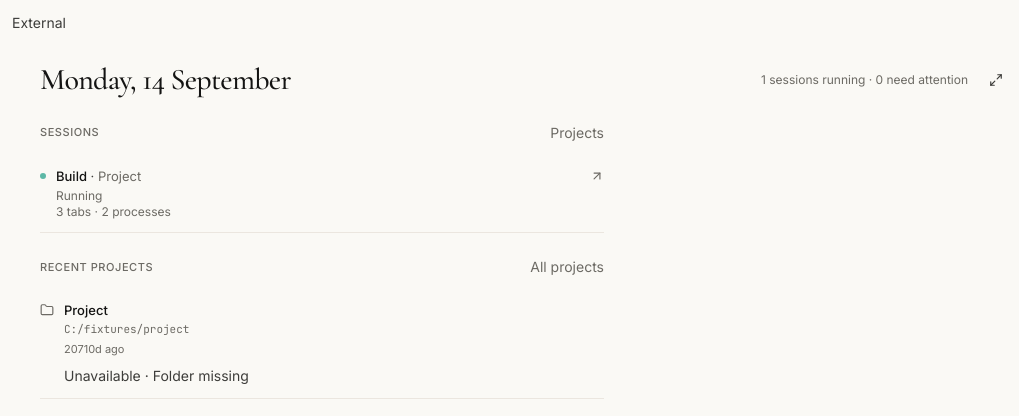
Test case: keeps missing projects navigable
Expected: the text "Unavailable · Folder missing" is shown, [64,366,249,384]
Click the link with aria-label "Open project Project".
click(86, 310)  # box [40,289,604,398]
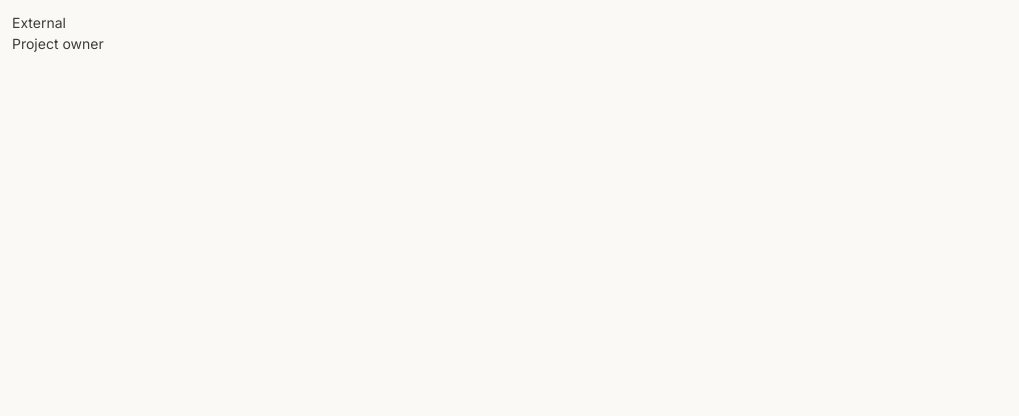
Result: the heading "Project owner" is shown at [12,35,104,52]
